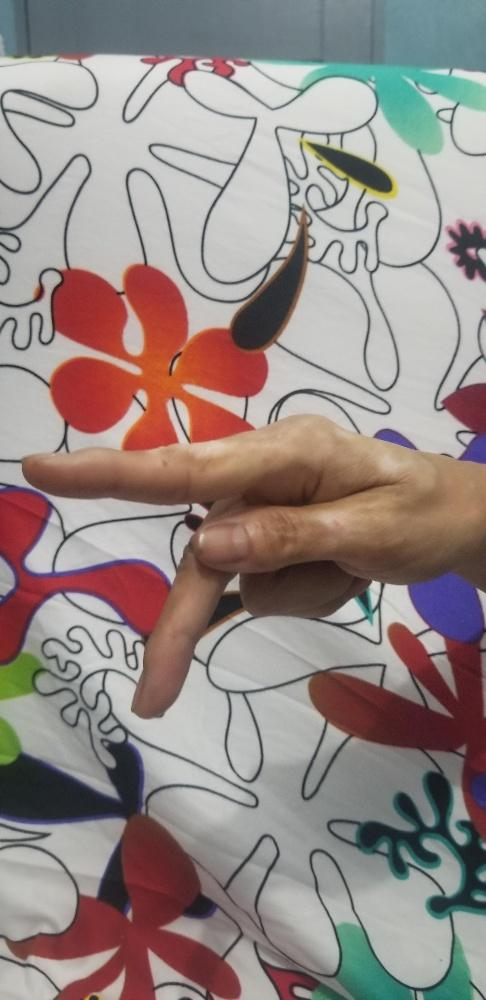p: (16, 410, 454, 720)
